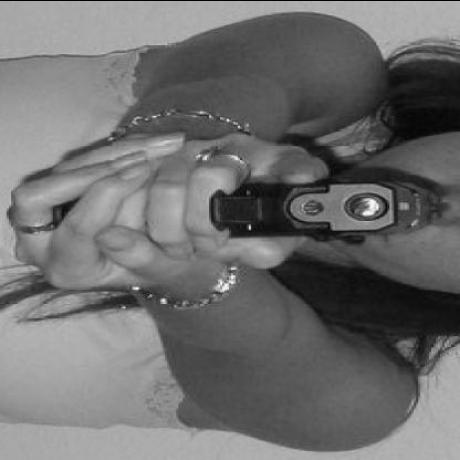1: (0, 7, 460, 458)
weapon: (183, 170, 440, 254)
